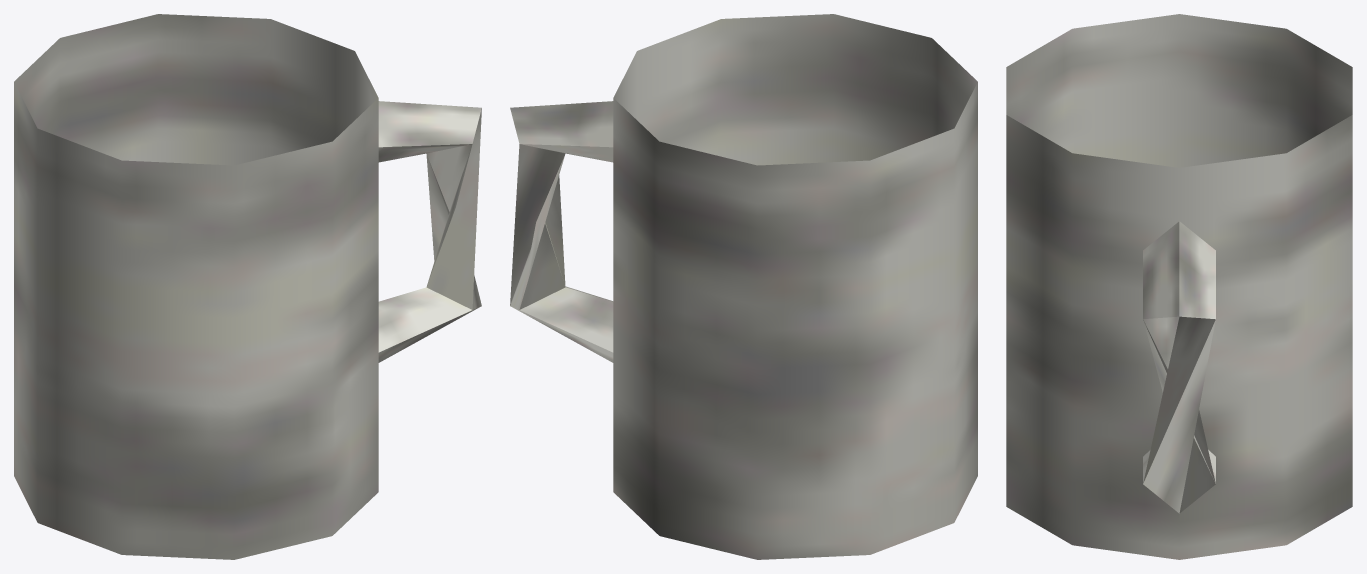
The model's file is mug.obj.
3 views of the same model, side by side, from view 1: azimuth 30°, elevation 25°; view 2: azimuth 150°, elevation 25°; view 3: azimuth 270°, elevation 25° (orthographic).
Visible parts, largest first — view 1: mug; view 2: mug; view 3: mug.
Part boxes in pixels (bbox=[...]): mug: bbox=[14, 14, 481, 559]; mug: bbox=[510, 14, 977, 559]; mug: bbox=[1006, 14, 1352, 559].
Size of the model in its own units: 0.112 by 0.095 by 0.0761.
Materials: 1 (1 with a texture image).
